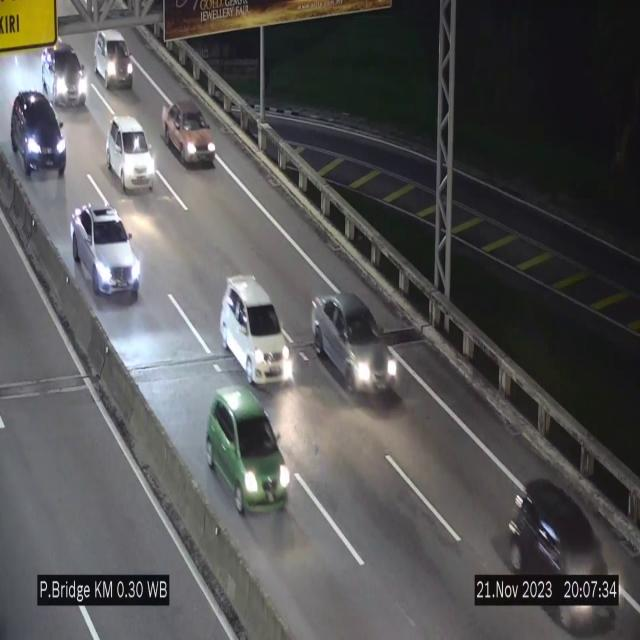Car: (504, 474, 614, 633), (206, 387, 290, 515), (311, 292, 401, 394), (220, 276, 293, 386), (70, 202, 140, 298), (10, 90, 70, 184), (41, 37, 90, 114), (107, 116, 155, 192), (161, 101, 215, 167), (94, 23, 132, 93)
